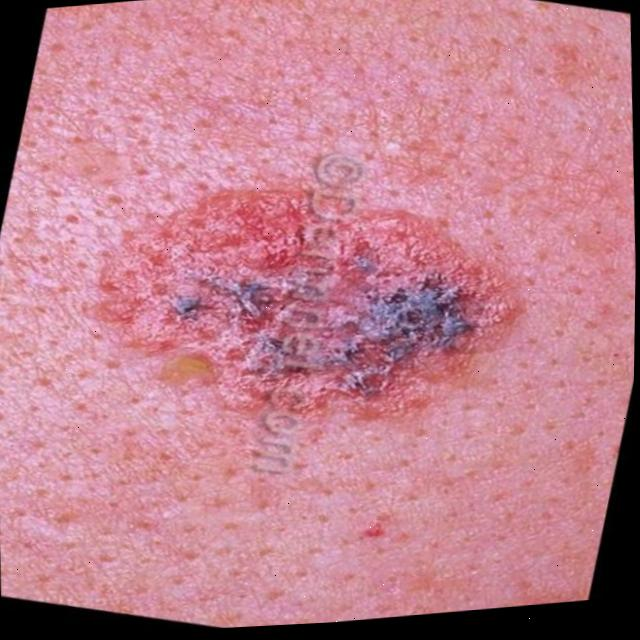Eczema: (135, 161, 543, 436)
